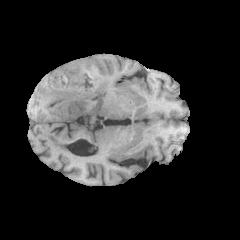glioma: (34, 58, 108, 121)
